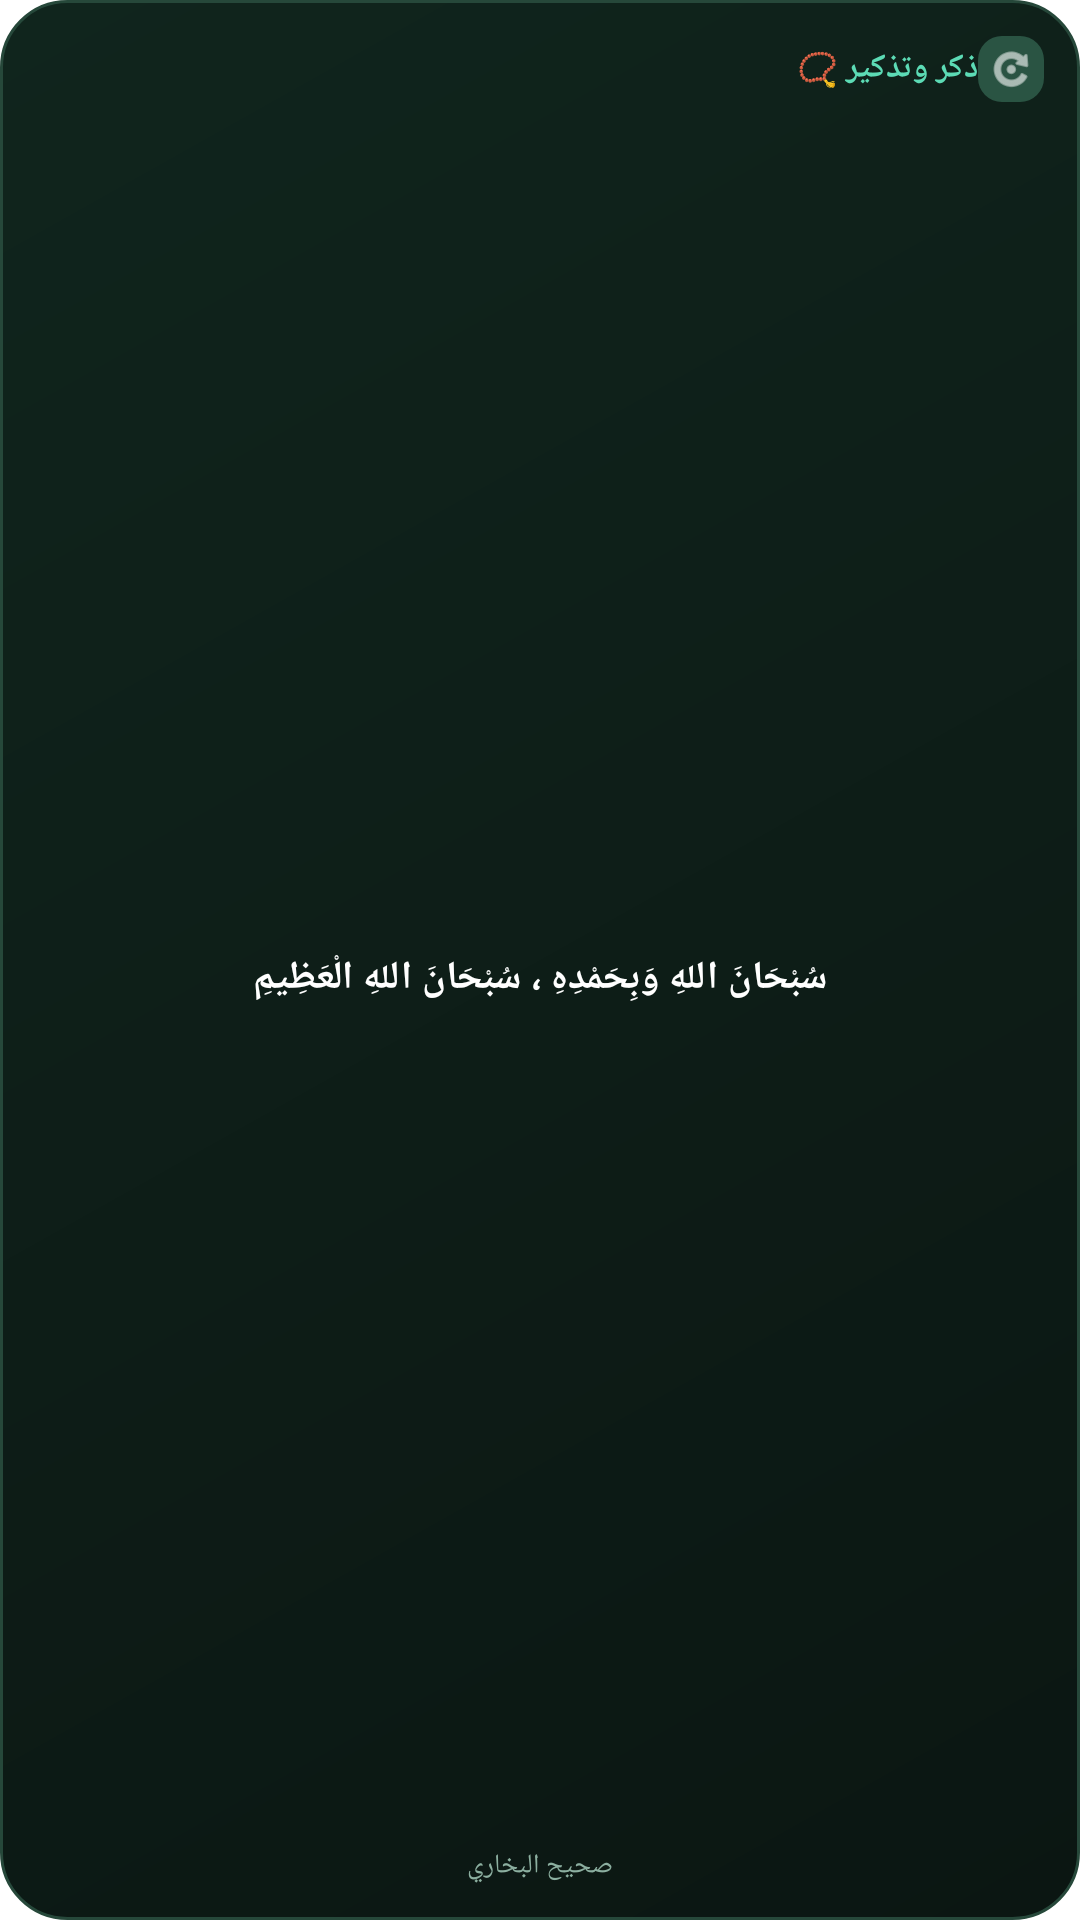

Named icons in this screenshot (1080px×1920px) and their bounding boxes, (x1, y1, x2, y2):
ذكر آخر: (978, 36, 1044, 102)
